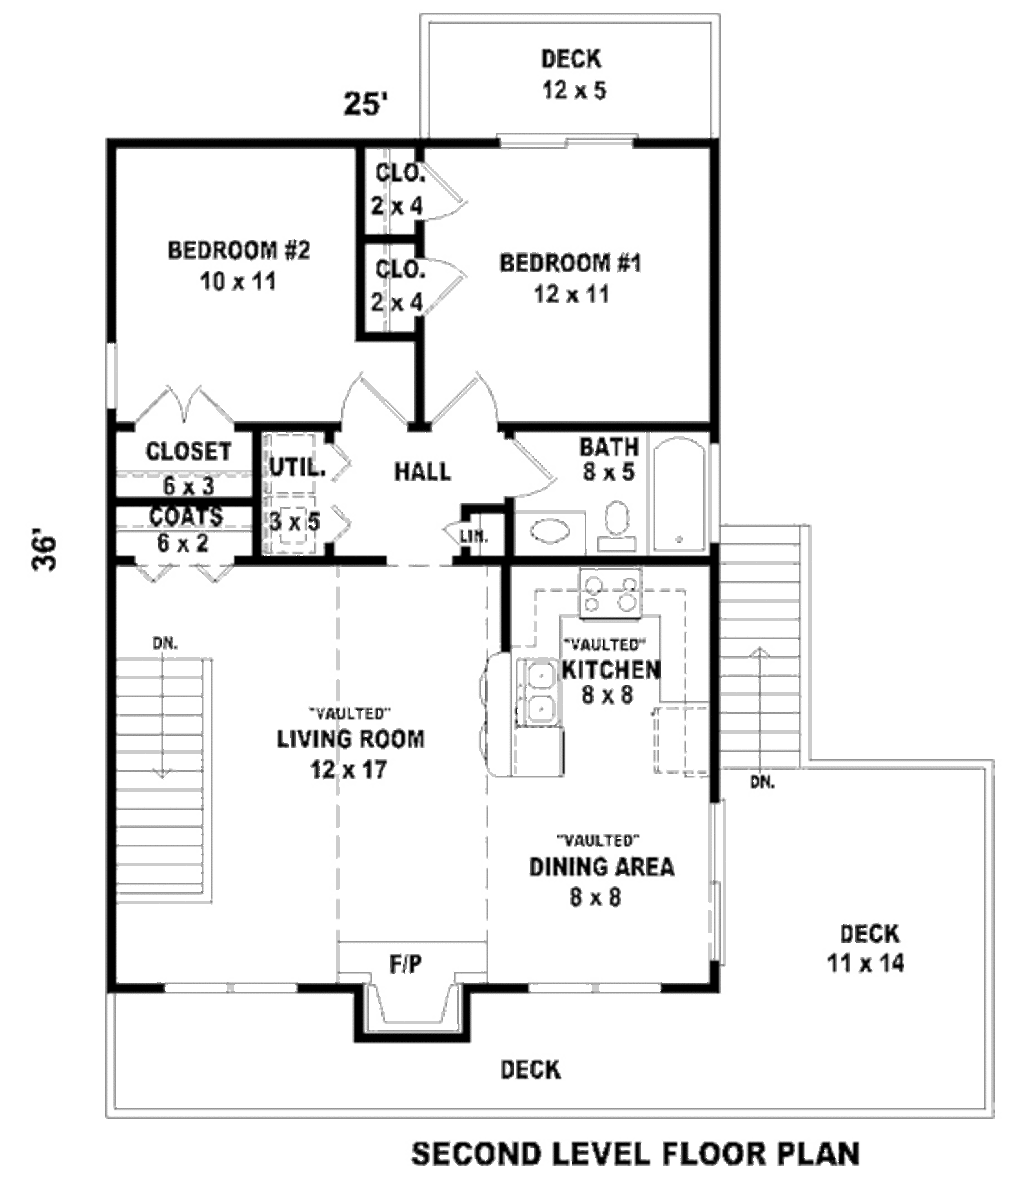door: (135, 384, 243, 434), (435, 374, 507, 434), (335, 375, 410, 430), (414, 252, 471, 323), (509, 436, 558, 502), (414, 164, 467, 221)
small_sink: (513, 506, 587, 555)
stairs: (112, 634, 219, 909), (711, 523, 815, 796)
tub: (642, 431, 714, 560), (592, 492, 640, 563)
twin_sink: (514, 660, 563, 728)
windows: (490, 128, 643, 155), (153, 974, 306, 999), (523, 979, 666, 1001)
